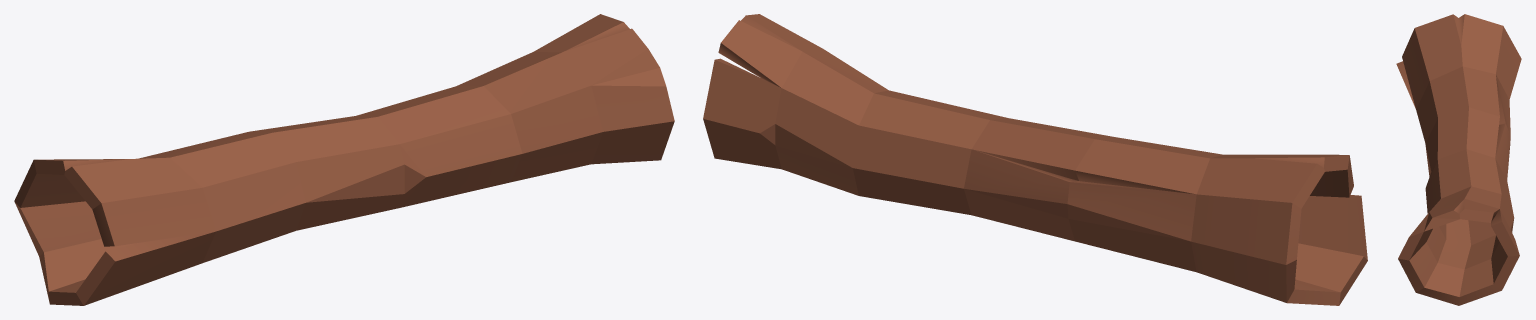
File: TreeTrunk_2.fbx
3 views of the same model, side by side, from view 1: azimuth 30°, elevation 25°; view 2: azimuth 150°, elevation 25°; view 3: azimuth 270°, elevation 25° (orthographic). The views are drawn at different scales.
Visible parts, largest first — view 1: Tree_Trunk_2; view 2: Tree_Trunk_2; view 3: Tree_Trunk_2.
Boxes of the visible parts, box(x1,y1,x2,y2) form: Tree_Trunk_2: box(14, 14, 674, 305); Tree_Trunk_2: box(703, 14, 1367, 305); Tree_Trunk_2: box(1396, 14, 1521, 305).
Size of the model in its own units: 3.13 by 0.7052 by 0.8022.
